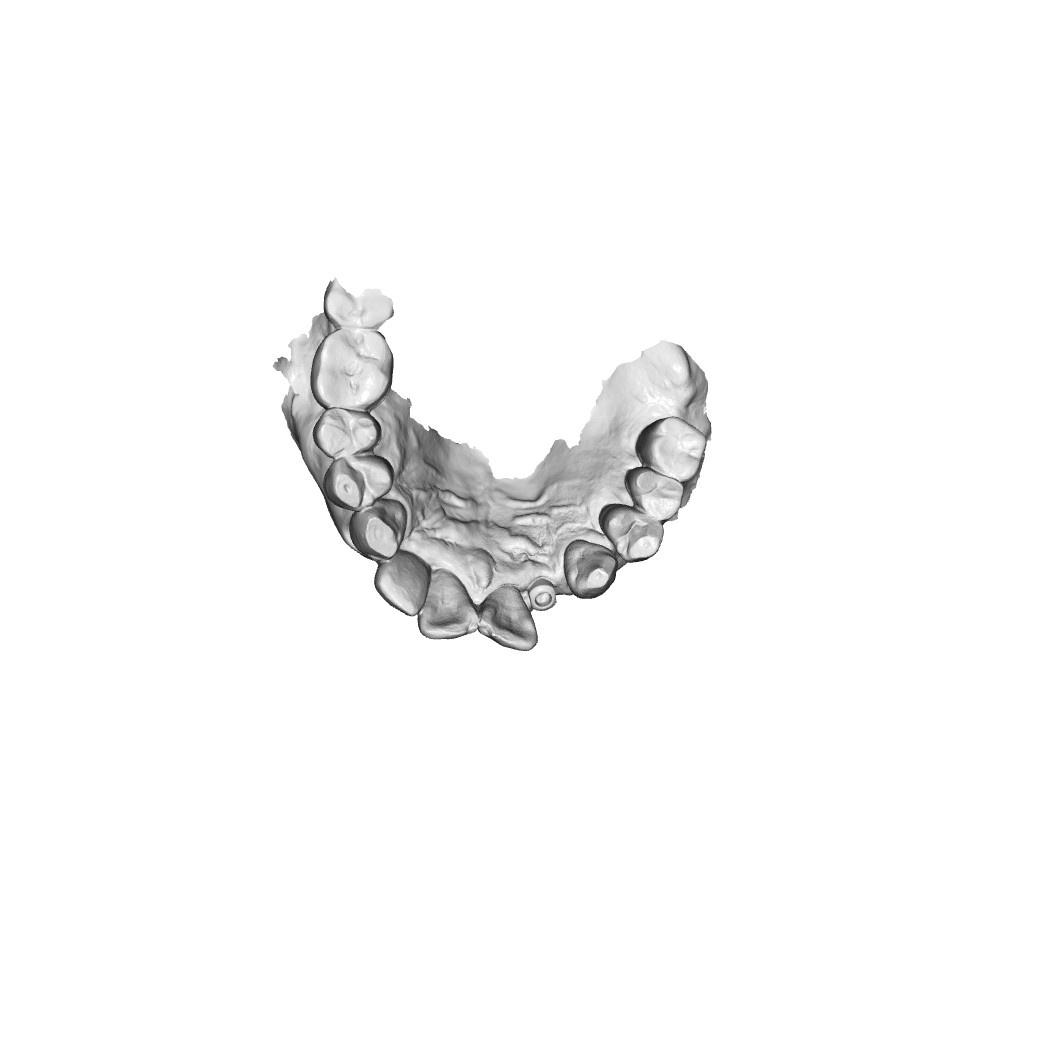canine: (566, 537, 622, 598), (360, 502, 410, 558)
implant: (533, 581, 556, 609)
incisor: (416, 574, 479, 640), (371, 552, 425, 614), (485, 590, 535, 649)
molar: (314, 327, 388, 402), (643, 420, 712, 481)
premolar: (316, 407, 380, 460), (331, 456, 392, 507), (603, 504, 659, 558), (631, 468, 683, 518)
